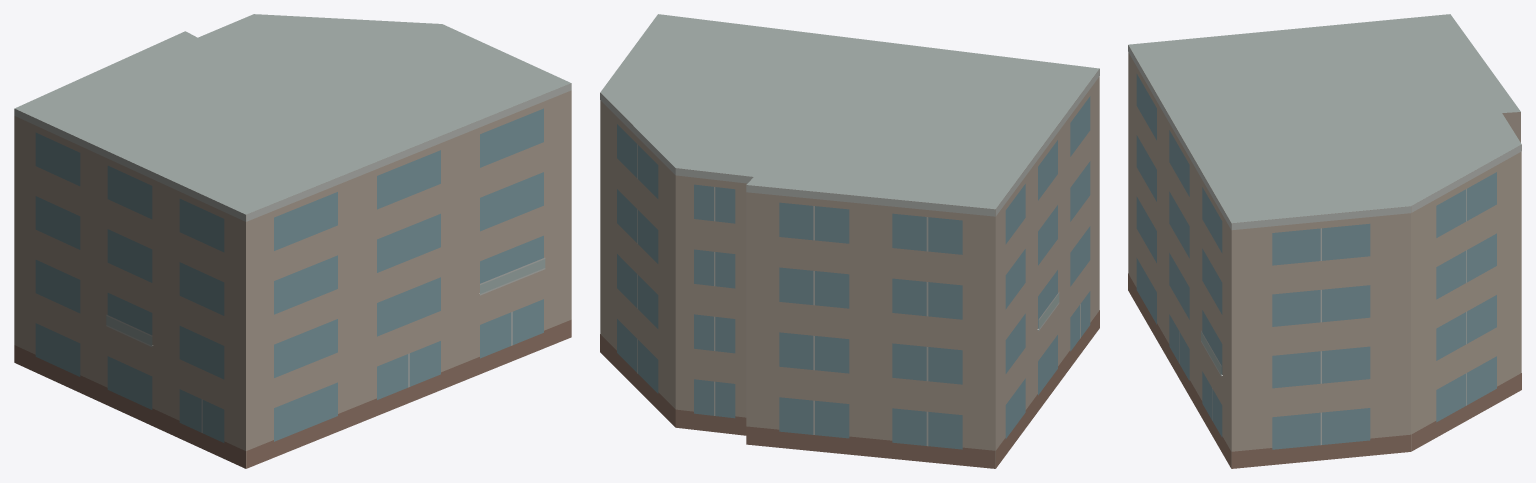
The model's file is survey-upis-32657563.glb.
The picture shows the model from 3 angles, left to right: view 1: azimuth 30°, elevation 25°; view 2: azimuth 150°, elevation 25°; view 3: azimuth 270°, elevation 25°; orthographic projection. The views are drawn at different scales.
Visible parts, largest first — view 1: survey-upis-32657563.tmp; view 2: survey-upis-32657563.tmp; view 3: survey-upis-32657563.tmp.
Boxes of the visible parts, bbox=[...] form: survey-upis-32657563.tmp: bbox=[14, 14, 571, 468]; survey-upis-32657563.tmp: bbox=[600, 14, 1099, 468]; survey-upis-32657563.tmp: bbox=[1128, 14, 1521, 468].
Bounding box in the file's own units: 15.73 × 8.6 × 12.5.
